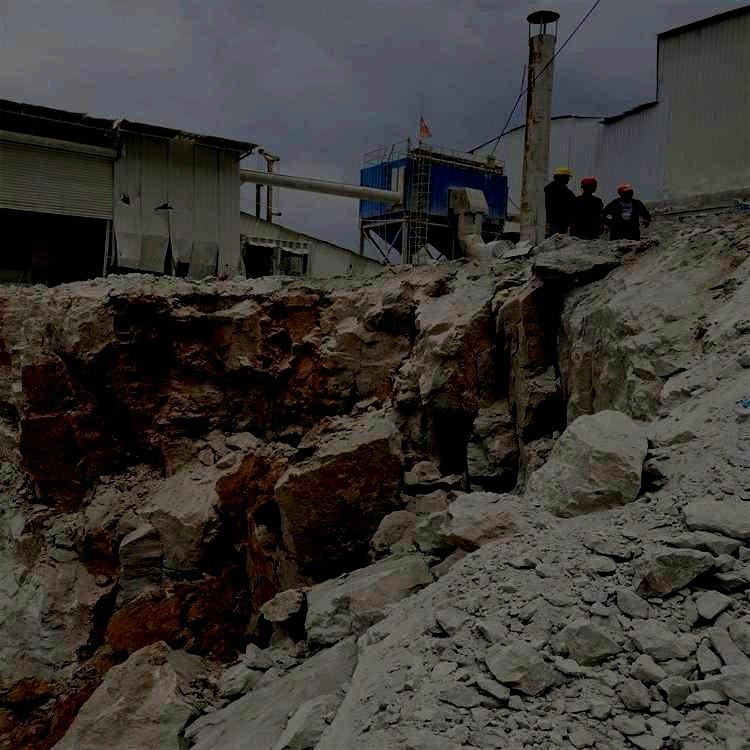helmet: (552, 167, 573, 186), (581, 176, 599, 195), (616, 181, 634, 199)
